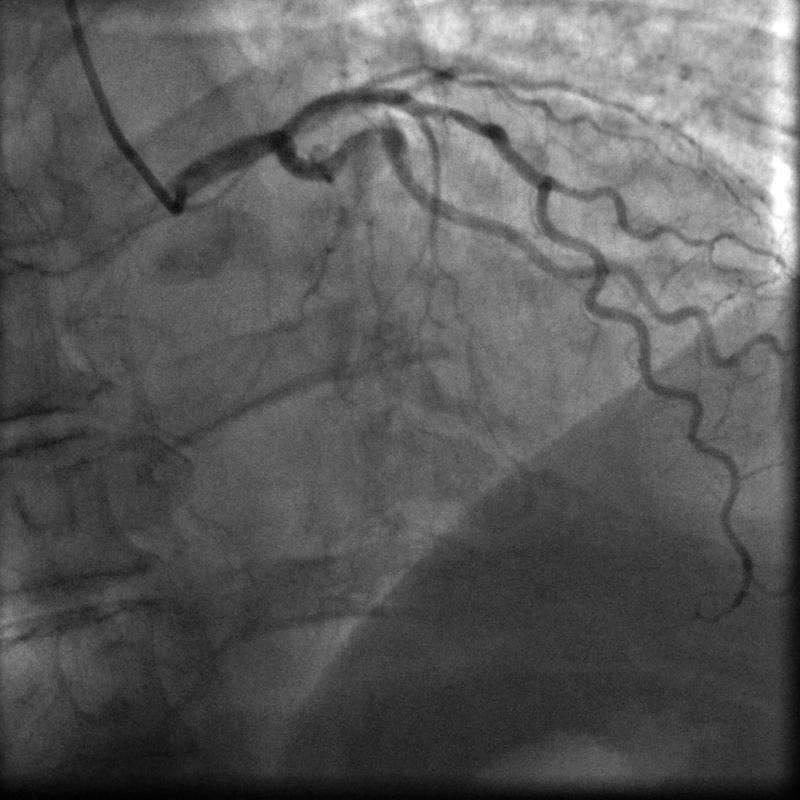Stenosis: (345, 122, 394, 146)
